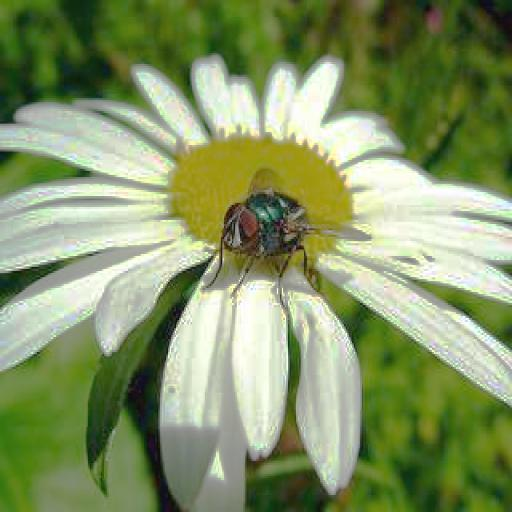daisy: (2, 73, 504, 467)
